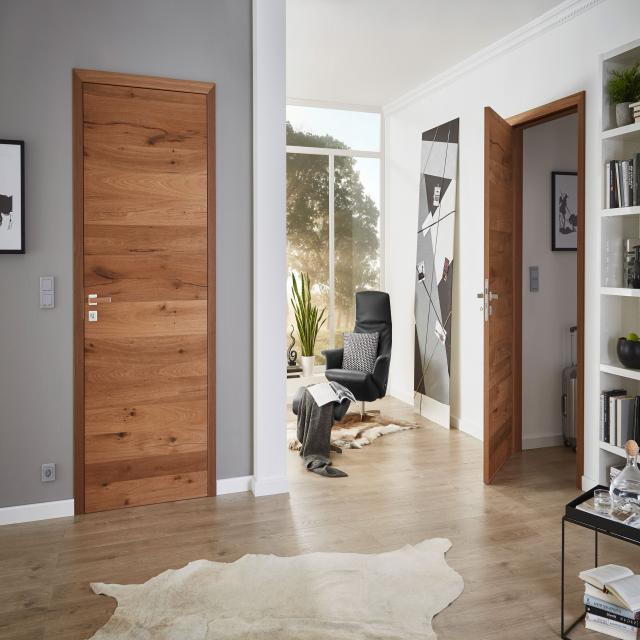close: (76, 88, 215, 512)
open: (486, 98, 584, 481)
